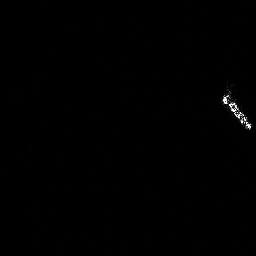ship: (222, 87, 252, 132)
